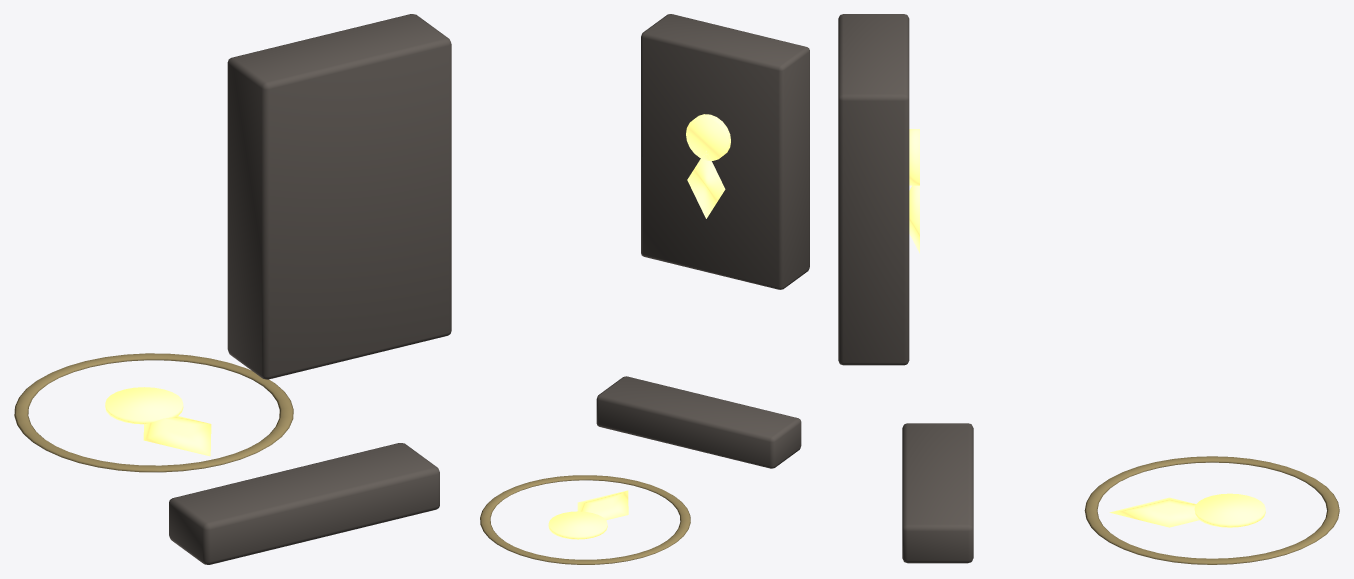
Rendered from key_niche.glb.
The picture shows the model from 3 angles, left to right: view 1: azimuth 30°, elevation 25°; view 2: azimuth 150°, elevation 25°; view 3: azimuth 270°, elevation 25°; orthographic projection. The views are drawn at different scales.
Visible parts, largest first — view 1: Frame, Step, FloorRing, FloorHoleTop, FloorHoleFoot; view 2: Frame, Step, FloorRing, HoleTop, FloorHoleTop, HoleFoot, FloorHoleFoot; view 3: Frame, Step, FloorRing, FloorHoleTop, FloorHoleFoot, HoleFoot, HoleTop.
Boxes of the visible parts, box(x1,y1,x2,y2) form: Frame: box(227, 14, 451, 379); Step: box(169, 443, 439, 564); FloorRing: box(14, 353, 293, 472); FloorHoleTop: box(105, 387, 183, 424); FloorHoleFoot: box(143, 416, 211, 456); Frame: box(641, 14, 809, 289); Step: box(596, 376, 801, 468); FloorRing: box(480, 475, 690, 564); HoleTop: box(686, 114, 730, 160); FloorHoleTop: box(548, 511, 607, 539); HoleFoot: box(687, 151, 725, 218); FloorHoleFoot: box(577, 490, 628, 520); Frame: box(838, 14, 909, 365); Step: box(902, 423, 973, 563); FloorRing: box(1084, 456, 1339, 564); FloorHoleTop: box(1194, 493, 1265, 527); FloorHoleFoot: box(1109, 497, 1198, 527); HoleFoot: box(909, 185, 919, 253); HoleTop: box(909, 129, 919, 185).
Size of the model in its own units: 0.716 by 1.42 by 1.41.
